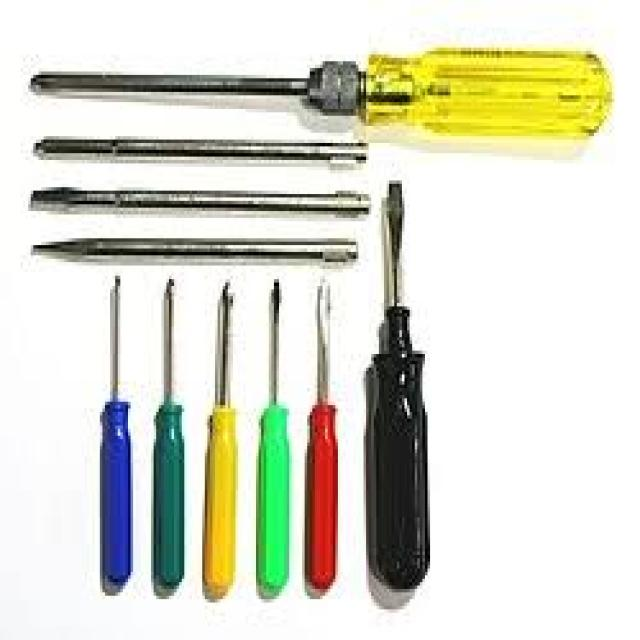screw driver: (16, 30, 640, 160), (364, 163, 449, 601), (92, 272, 151, 588), (202, 275, 253, 603), (252, 270, 302, 599), (150, 266, 194, 586)
